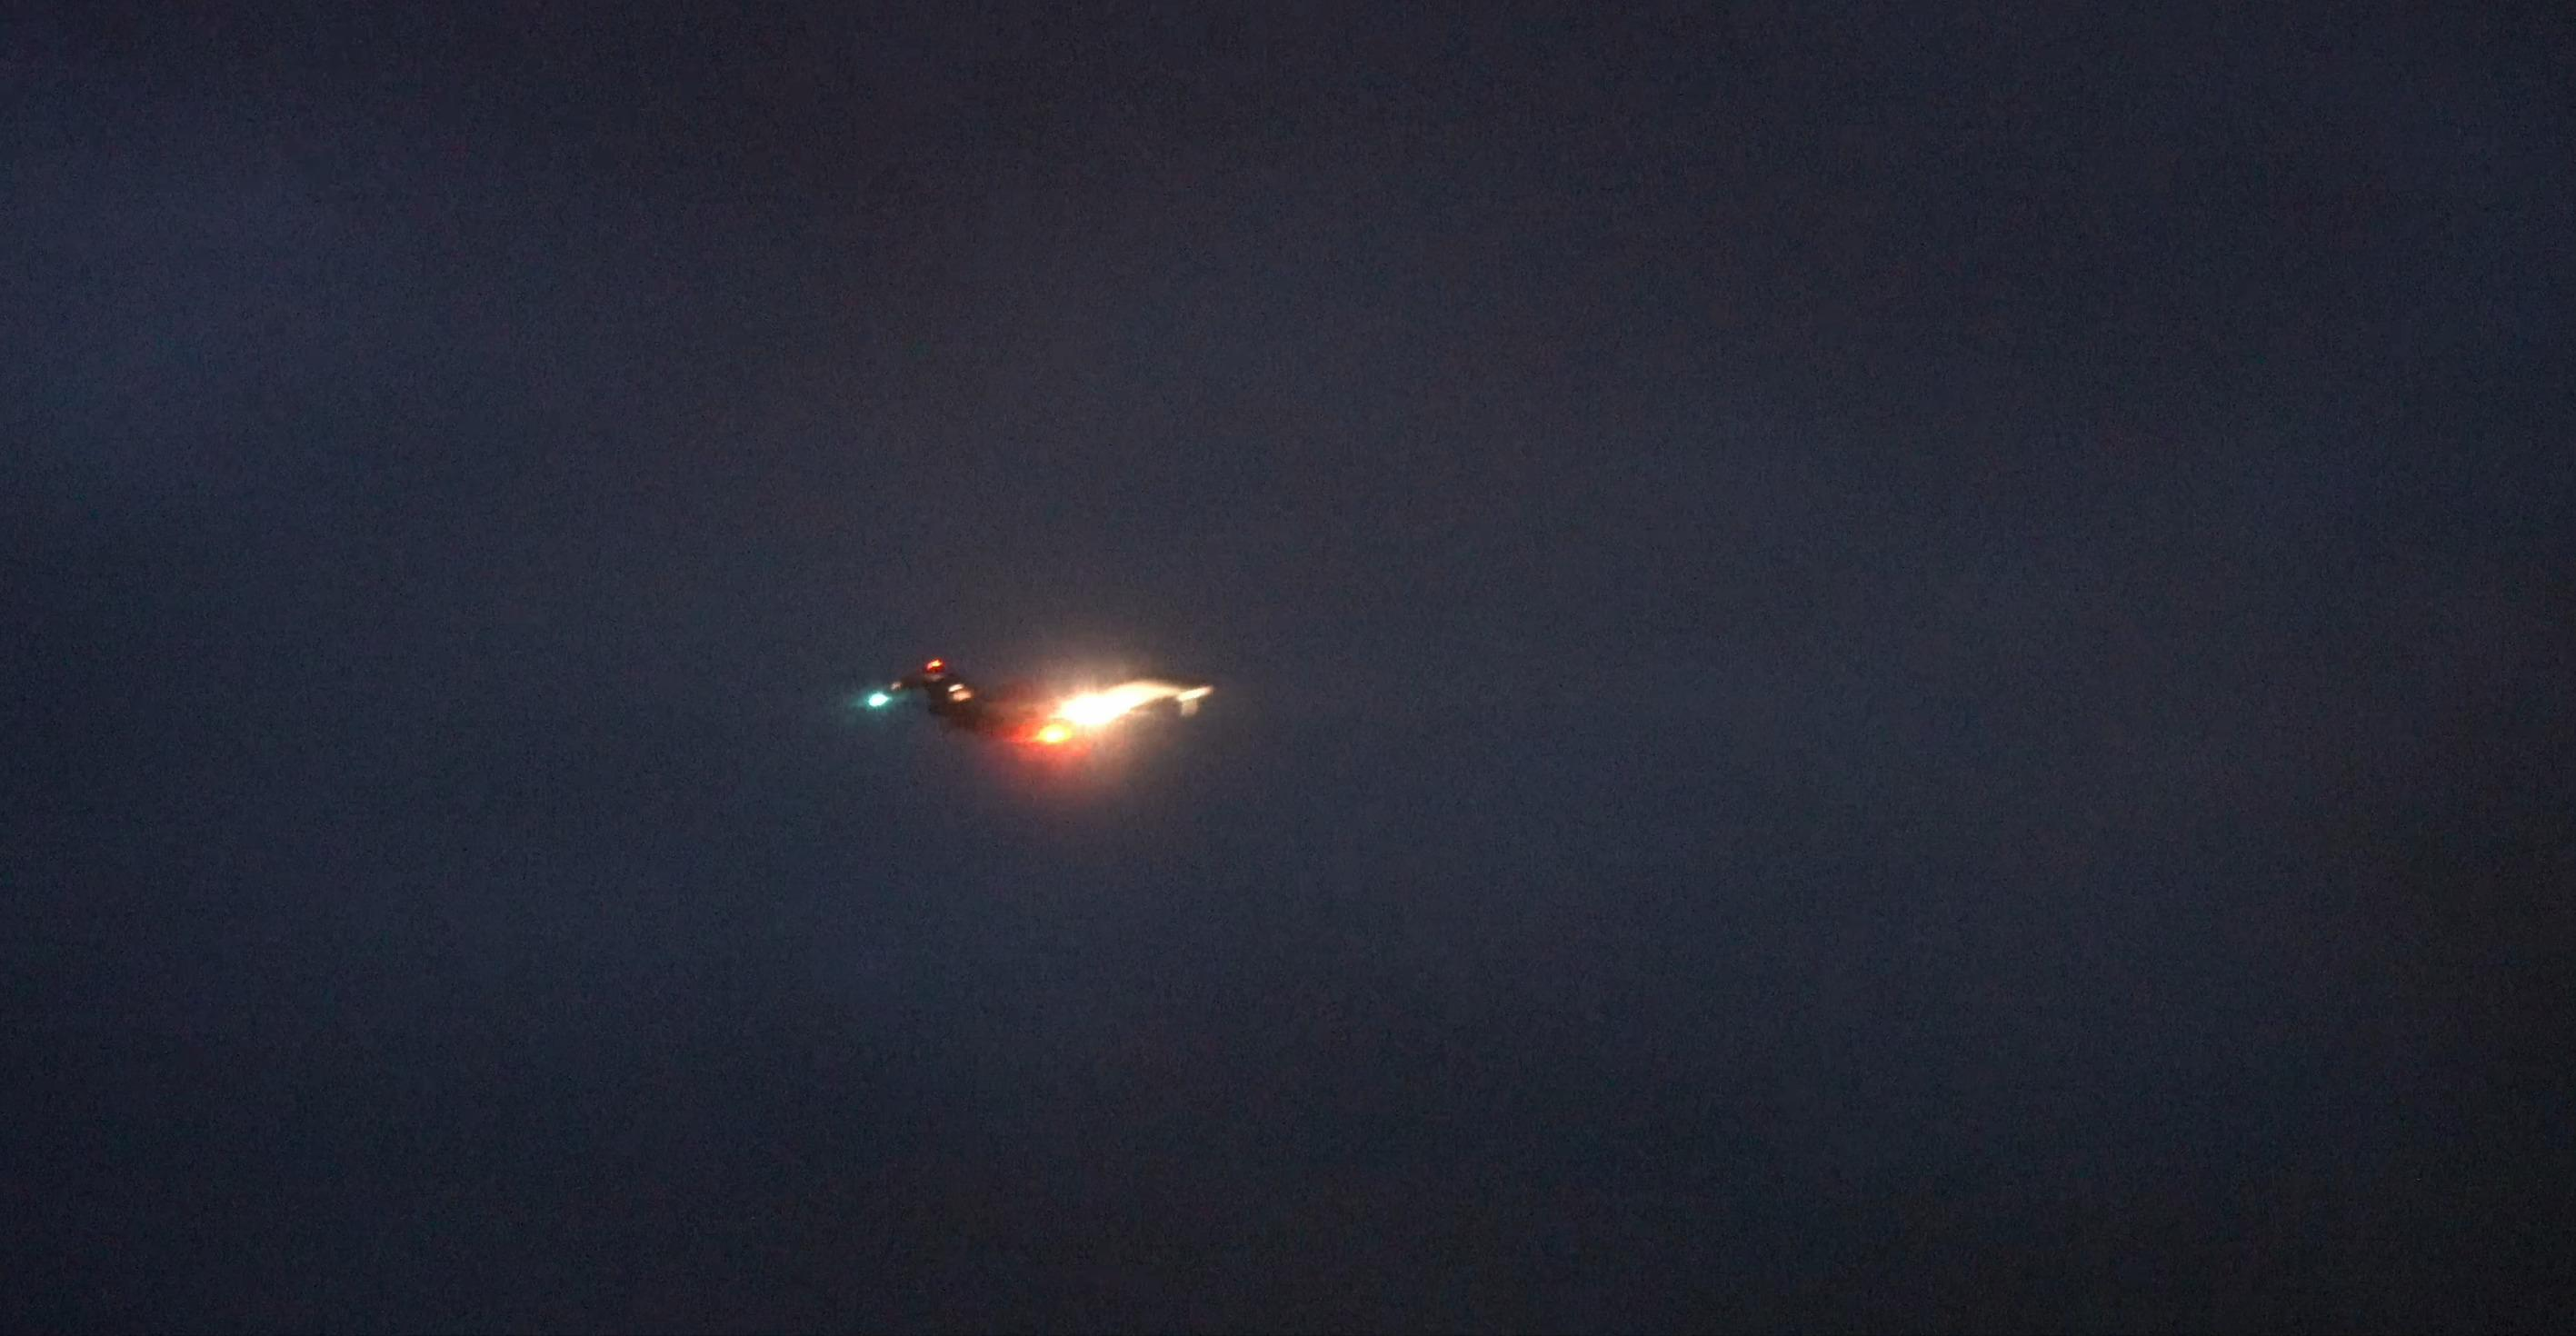Plane: (837, 607, 1220, 808)
